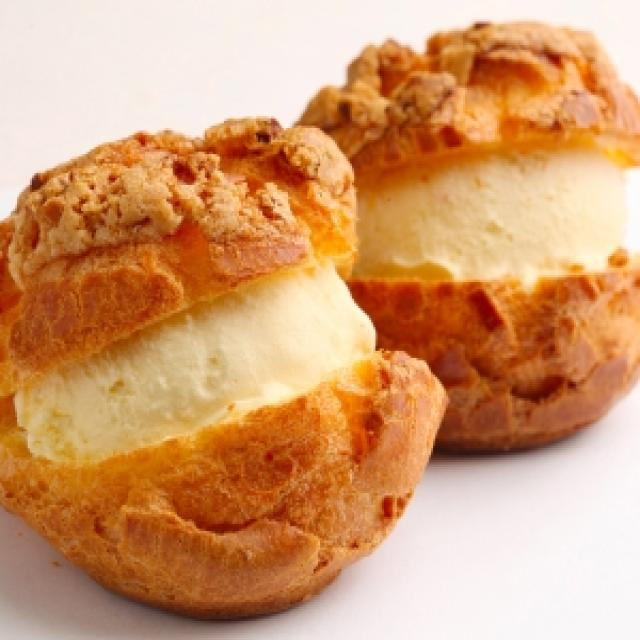炸货点心: (9, 17, 636, 604)
蛋糕甜品: (9, 17, 636, 604)
